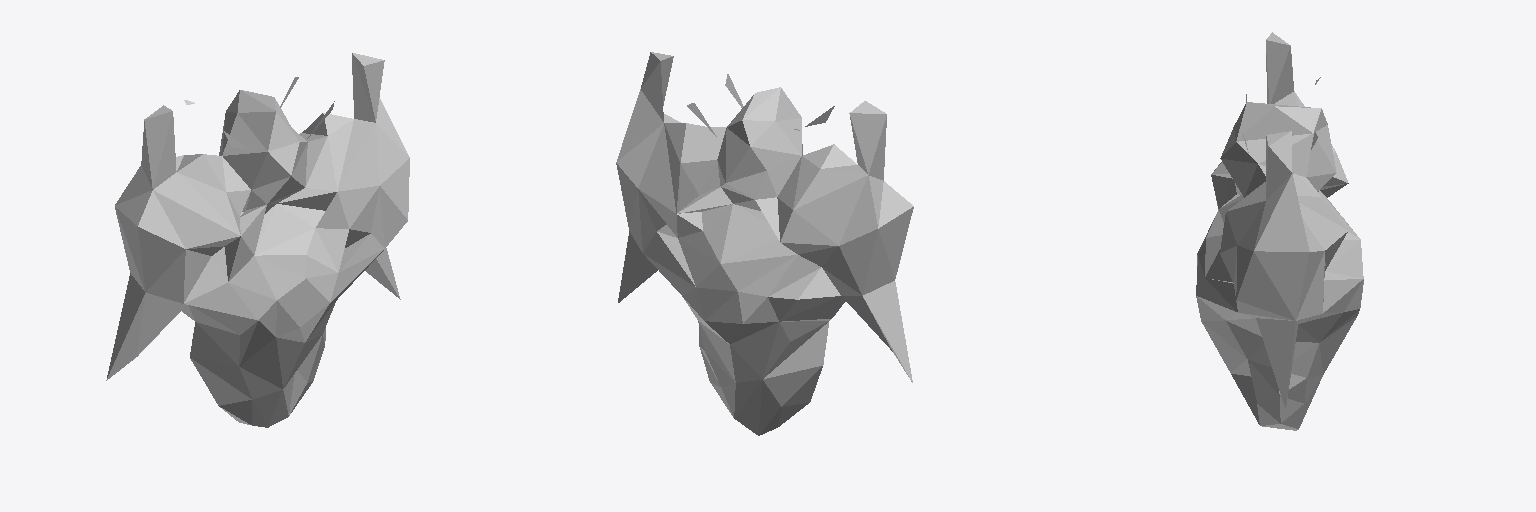
3 renders of one model, left to right at view 1: azimuth 30°, elevation 25°; view 2: azimuth 150°, elevation 25°; view 3: azimuth 270°, elevation 25°, orthographic.
Visible parts, largest first — view 1: ai_model; view 2: ai_model; view 3: ai_model.
Boxes of the visible parts, x1,y1,x2,y2 form: ai_model: [106, 53, 409, 427]; ai_model: [616, 52, 913, 435]; ai_model: [1196, 32, 1363, 430].
Bounding box in the file's own units: 0.8331 × 0.9415 × 0.4111.